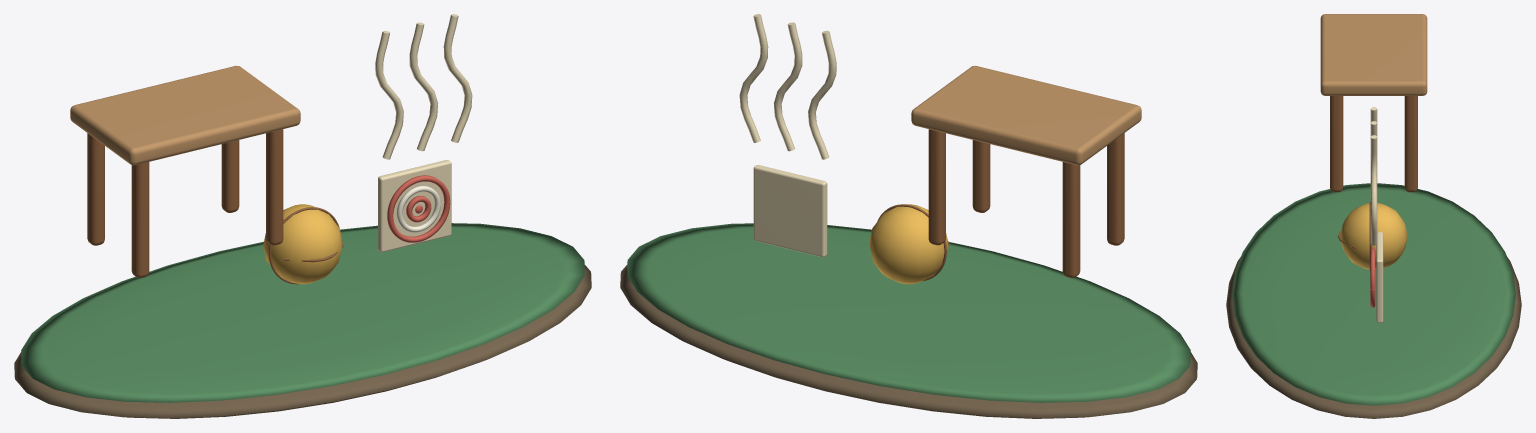
Rendered from complete-first-almost-at-table.glb.
3 views of the same model, side by side, from view 1: azimuth 30°, elevation 25°; view 2: azimuth 150°, elevation 25°; view 3: azimuth 270°, elevation 25° (orthographic). The views are drawn at different scales.
Parts seen in each view (by area): view 1: complete-first-almost-at-table_surface_01, complete-first-almost-at-table_surface_02, complete-first-almost-at-table_surface_00, complete-first-almost-at-table_surface_03, complete-first-almost-at-table_surface_04, complete-first-almost-at-table_surface_05, complete-first-almost-at-table_surface_06, complete-first-almost-at-table_surface_07; view 2: complete-first-almost-at-table_surface_01, complete-first-almost-at-table_surface_02, complete-first-almost-at-table_surface_00, complete-first-almost-at-table_surface_04, complete-first-almost-at-table_surface_03, complete-first-almost-at-table_surface_05; view 3: complete-first-almost-at-table_surface_01, complete-first-almost-at-table_surface_02, complete-first-almost-at-table_surface_00, complete-first-almost-at-table_surface_05, complete-first-almost-at-table_surface_03, complete-first-almost-at-table_surface_04, complete-first-almost-at-table_surface_06.
Boxes of the visible parts, <box> form: complete-first-almost-at-table_surface_01: <box>21,223,584,402</box>; complete-first-almost-at-table_surface_02: <box>70,65,300,165</box>; complete-first-almost-at-table_surface_00: <box>14,265,591,418</box>; complete-first-almost-at-table_surface_03: <box>87,129,343,284</box>; complete-first-almost-at-table_surface_04: <box>375,14,472,252</box>; complete-first-almost-at-table_surface_05: <box>263,204,342,284</box>; complete-first-almost-at-table_surface_06: <box>387,175,450,242</box>; complete-first-almost-at-table_surface_07: <box>396,185,440,232</box>; complete-first-almost-at-table_surface_01: <box>627,223,1190,402</box>; complete-first-almost-at-table_surface_02: <box>911,65,1141,165</box>; complete-first-almost-at-table_surface_00: <box>620,265,1197,418</box>; complete-first-almost-at-table_surface_04: <box>739,14,836,257</box>; complete-first-almost-at-table_surface_03: <box>877,129,1124,281</box>; complete-first-almost-at-table_surface_05: <box>869,204,948,284</box>; complete-first-almost-at-table_surface_01: <box>1232,183,1515,405</box>; complete-first-almost-at-table_surface_02: <box>1320,14,1427,95</box>; complete-first-almost-at-table_surface_00: <box>1226,257,1521,418</box>; complete-first-almost-at-table_surface_05: <box>1340,203,1407,269</box>; complete-first-almost-at-table_surface_03: <box>1330,96,1417,270</box>; complete-first-almost-at-table_surface_04: <box>1370,107,1383,322</box>; complete-first-almost-at-table_surface_06: <box>1370,247,1375,307</box>.
Bounding box in the file's own units: 4.56 × 2.29 × 2.5.
